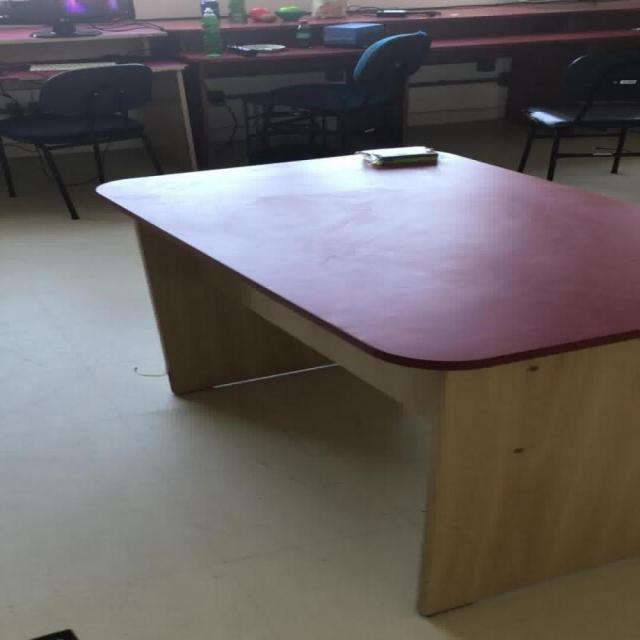Sponge: (353, 145, 438, 166)
